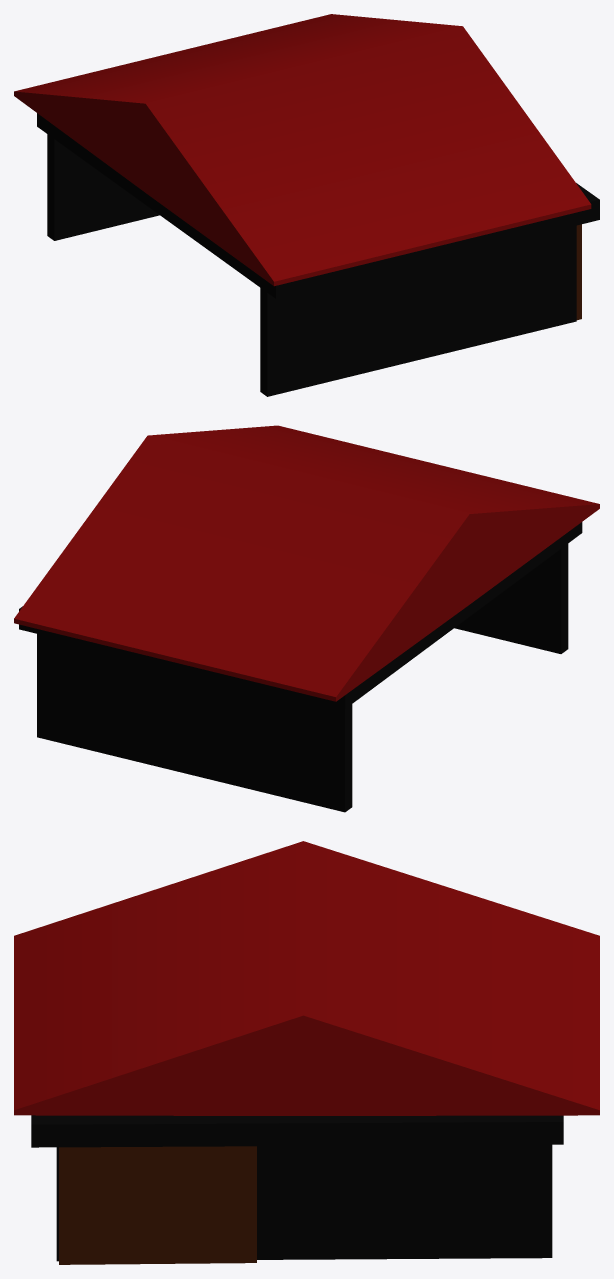
File: House6.FBX
3 renders of one model, top to bottom at view 1: azimuth 30°, elevation 25°; view 2: azimuth 150°, elevation 25°; view 3: azimuth 270°, elevation 25°, orthographic. The views are drawn at different scales.
Parts seen in each view (by area): view 1: House6; view 2: House6; view 3: House6.
Part boxes in pixels (box(x1,y1,x2,y2)): House6: box(14, 14, 599, 396); House6: box(14, 425, 599, 812); House6: box(14, 841, 599, 1264).
Bounding box in the file's own units: 1213 × 1637 × 750.
